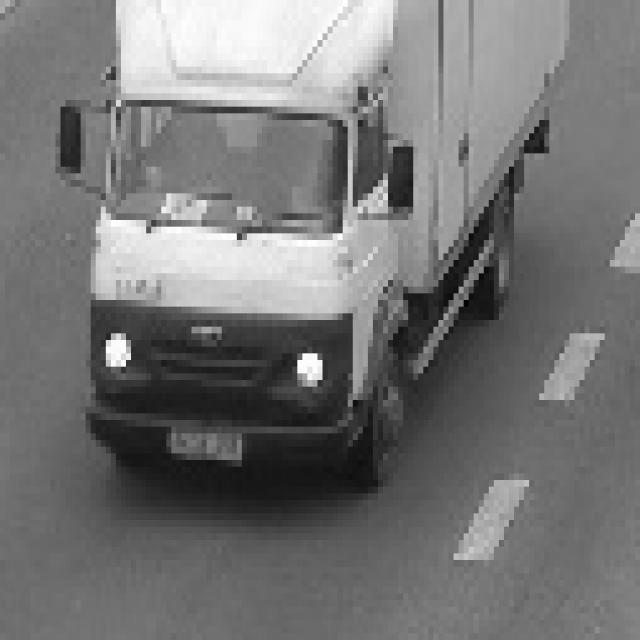truck: (51, 1, 430, 494)
